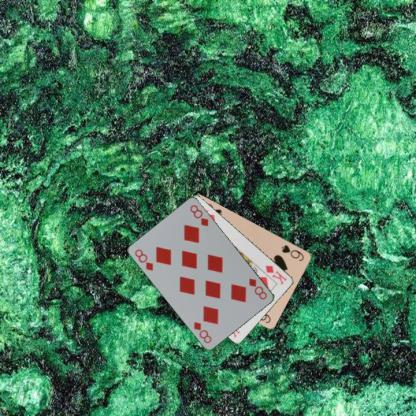6s: (279, 242, 305, 262)
8d: (132, 247, 155, 272), (247, 276, 268, 301)
Kd: (263, 263, 288, 286)
